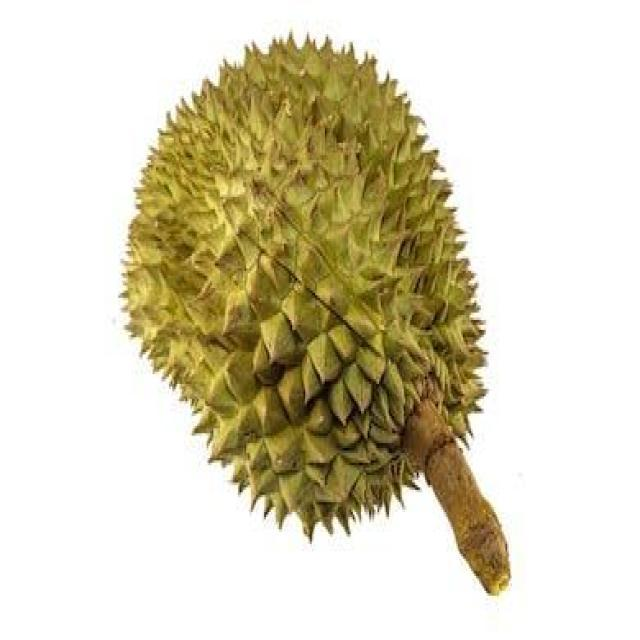immature: (121, 30, 491, 536)
